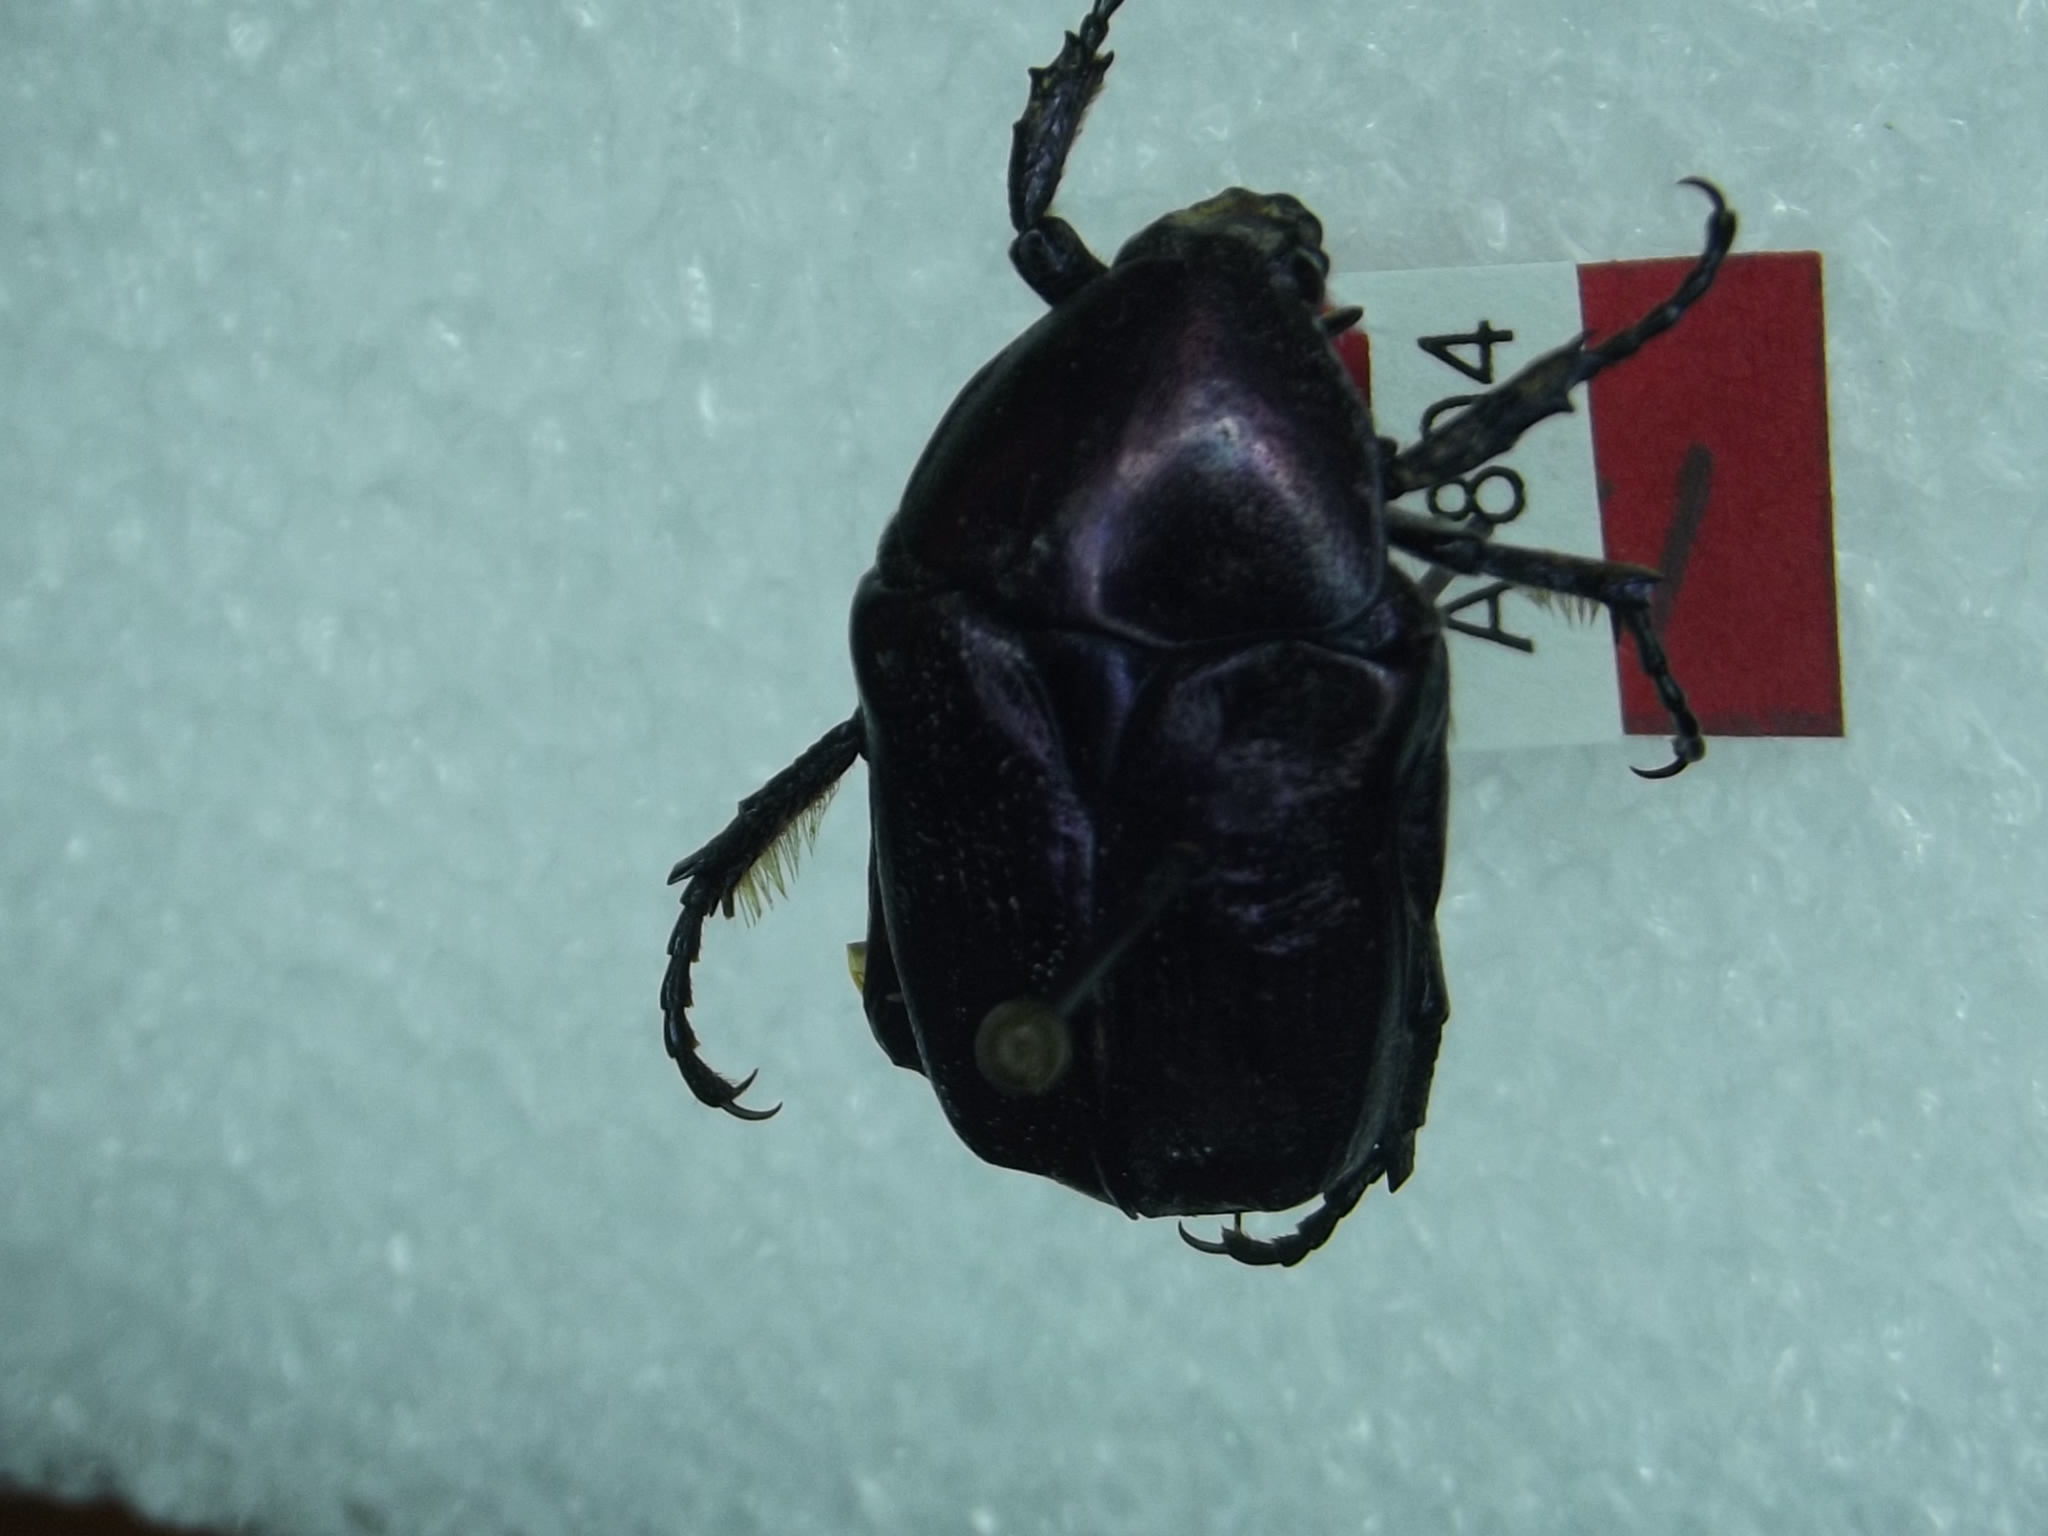Protaetia_besucheti: (605, 2, 1743, 1304)
